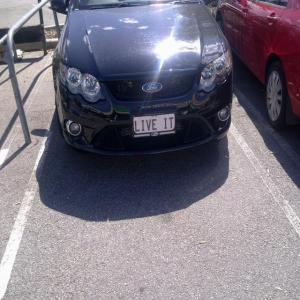Plate: (133, 113, 176, 137)
